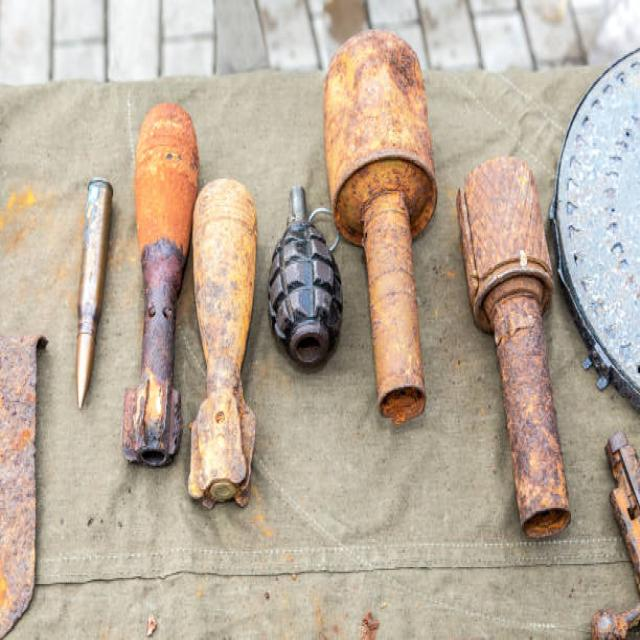grenade: (259, 182, 344, 367)
